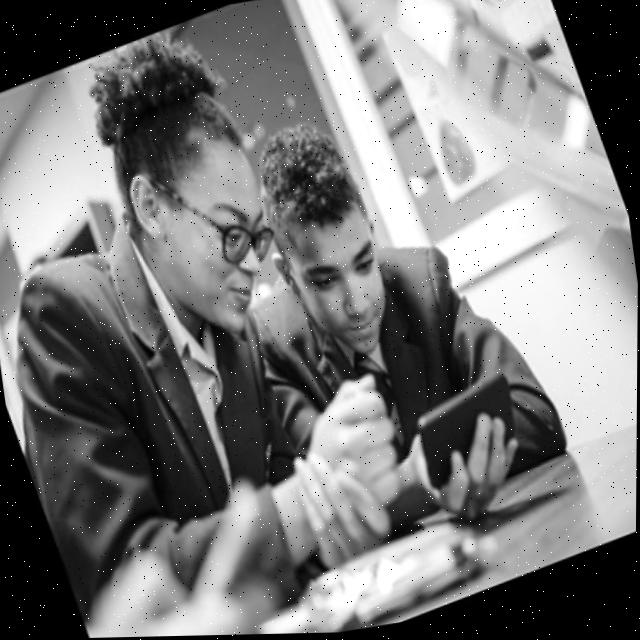phone: (153, 470, 290, 612), (400, 369, 538, 497)
